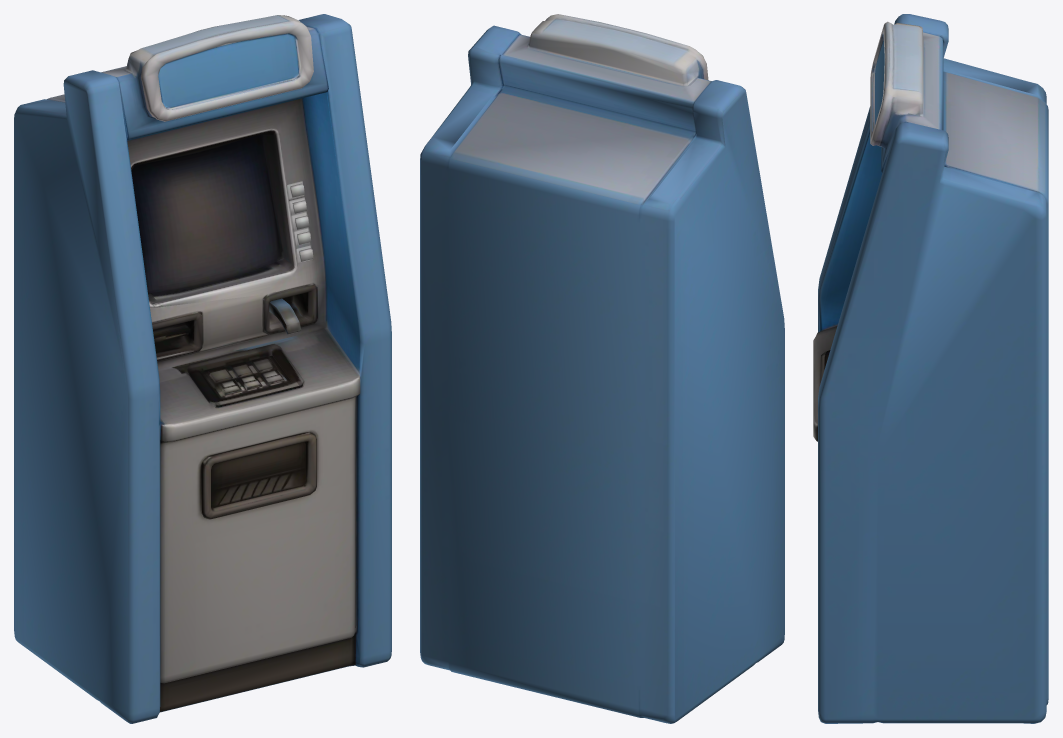
File: Inside__Atm3.cluster.glb
3 renders of one model, left to right at view 1: azimuth 30°, elevation 25°; view 2: azimuth 150°, elevation 25°; view 3: azimuth 270°, elevation 25°, orthographic. The views are drawn at different scales.
Visible parts, largest first — view 1: Atm3; view 2: Atm3; view 3: Atm3.
Part boxes in pixels (x1,y1,x2,y2): Atm3: (14, 14, 391, 723); Atm3: (420, 14, 784, 723); Atm3: (813, 14, 1048, 723).
Bounding box in the file's own units: 0.826 × 1.9 × 0.662.
Materials: 1 (1 with a texture image).
